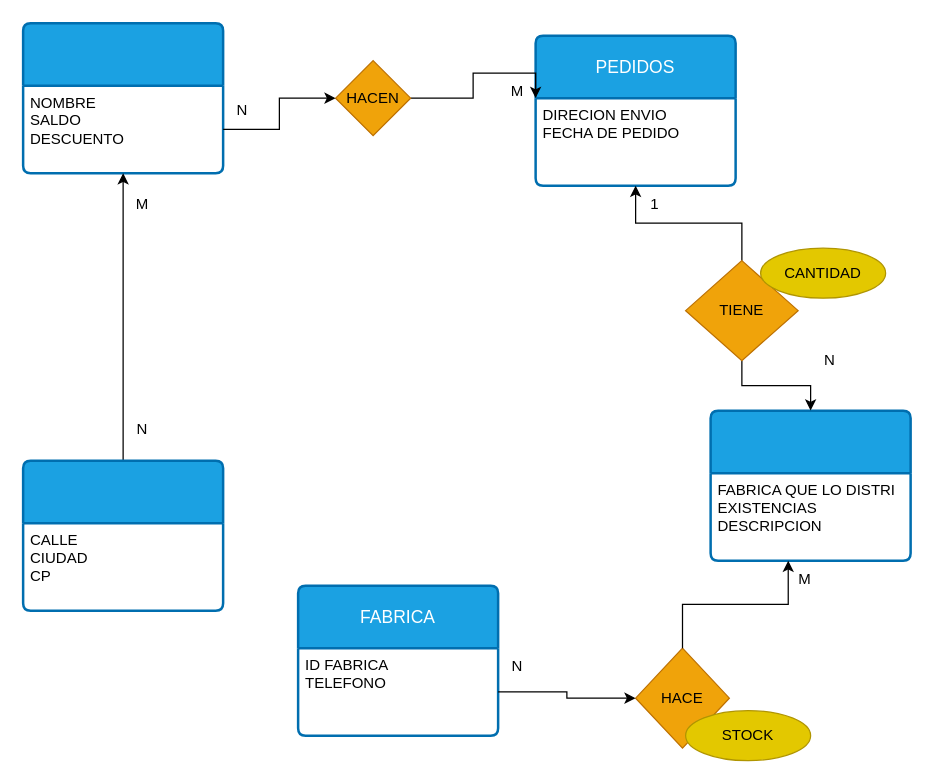
This 933x783 diagram has some shape labels left out. Here are the shapes that lost their labels. From the top down, the box of each, then its label:
(21, 21, 224, 174): CLIENTES
(709, 409, 911, 561): ARTICULOS
(21, 459, 224, 611): DIRECCIONES ENVIO
